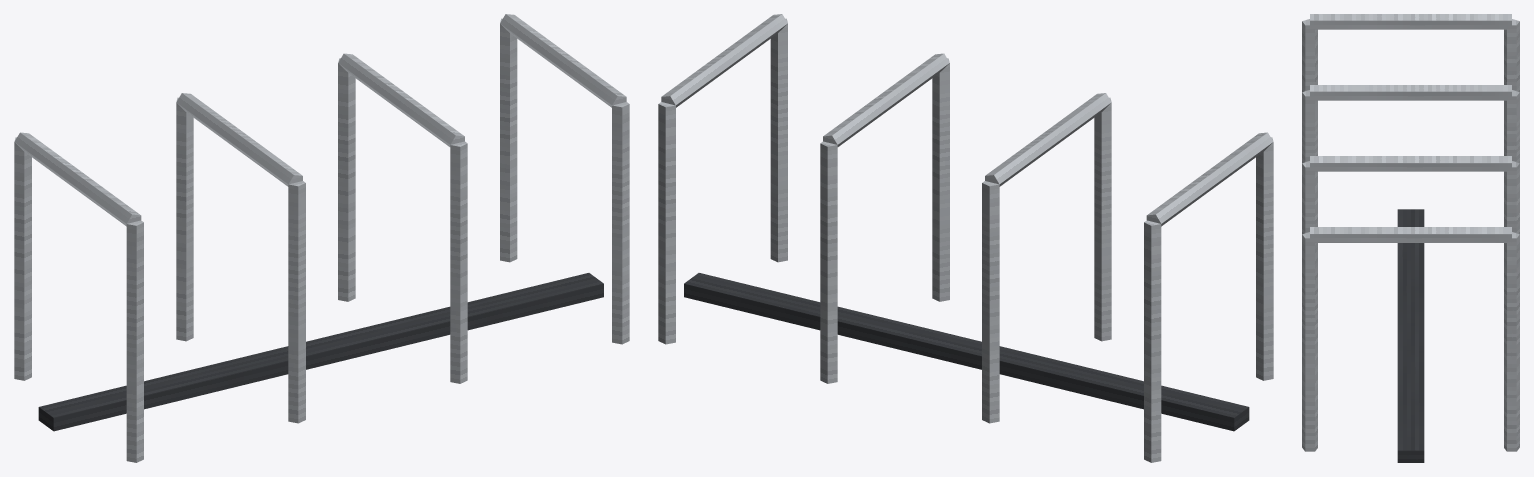
Rendered from bicicletario.glb.
3 views of the same model, side by side, from view 1: azimuth 30°, elevation 25°; view 2: azimuth 150°, elevation 25°; view 3: azimuth 270°, elevation 25° (orthographic). The views are drawn at different scales.
Parts seen in each view (by area): view 1: Inteiro; view 2: Inteiro; view 3: Inteiro.
Part boxes in pixels (x1,y1,x2,y2): Inteiro: (14,14,629,462); Inteiro: (658,14,1273,462); Inteiro: (1302,14,1519,462).
Bounding box in the file's own units: 1.7 × 0.7238 × 0.6476.
Materials: 1 (1 with a texture image).
